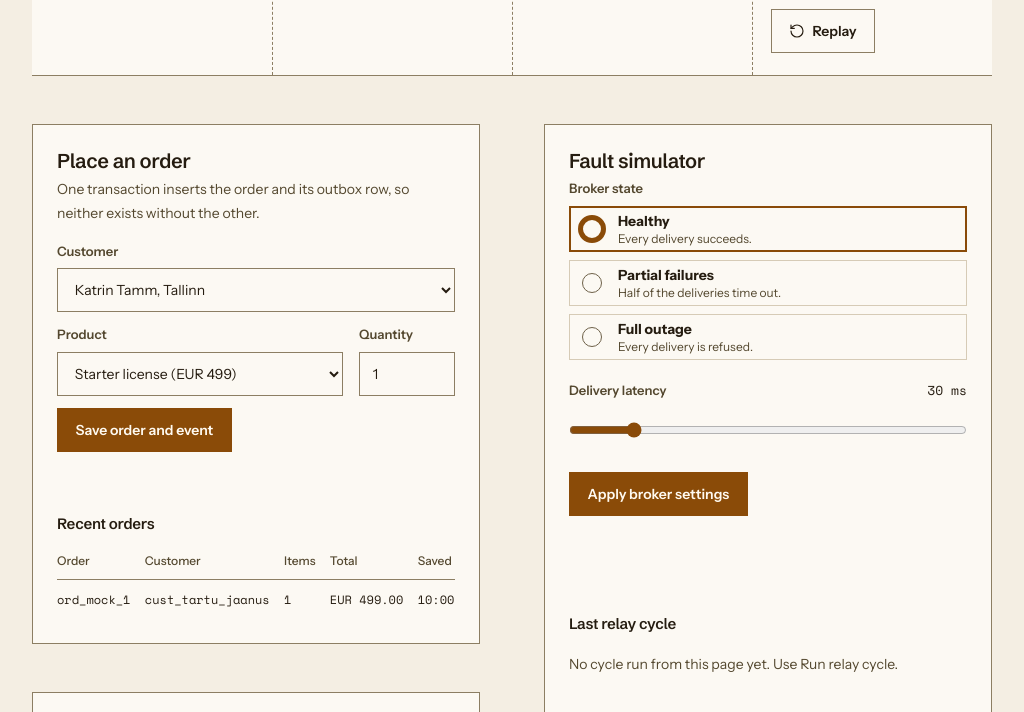
OutboxRelay operations console › saves an order with the chosen product and quantity
(page scrolled)
Select "Broker node (EUR 850)" in the dropdown labelled "Product" at (200, 374), box [57,352,343,396]
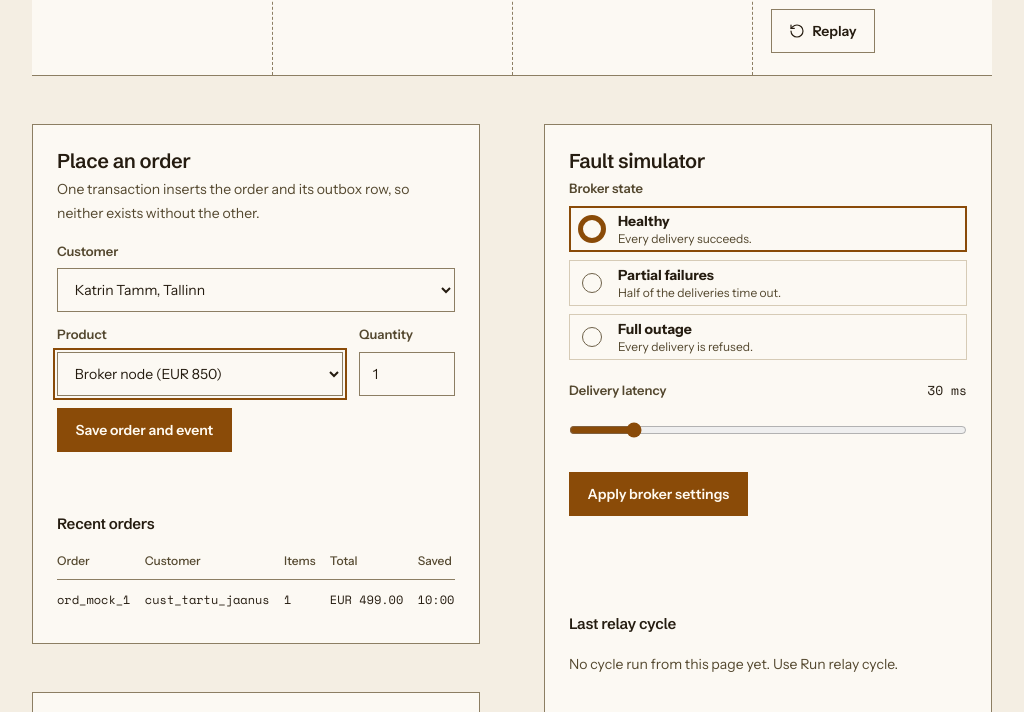
Replace the text in the number field labelled "Quantity" with "2" at (407, 374), box [359,352,455,396]
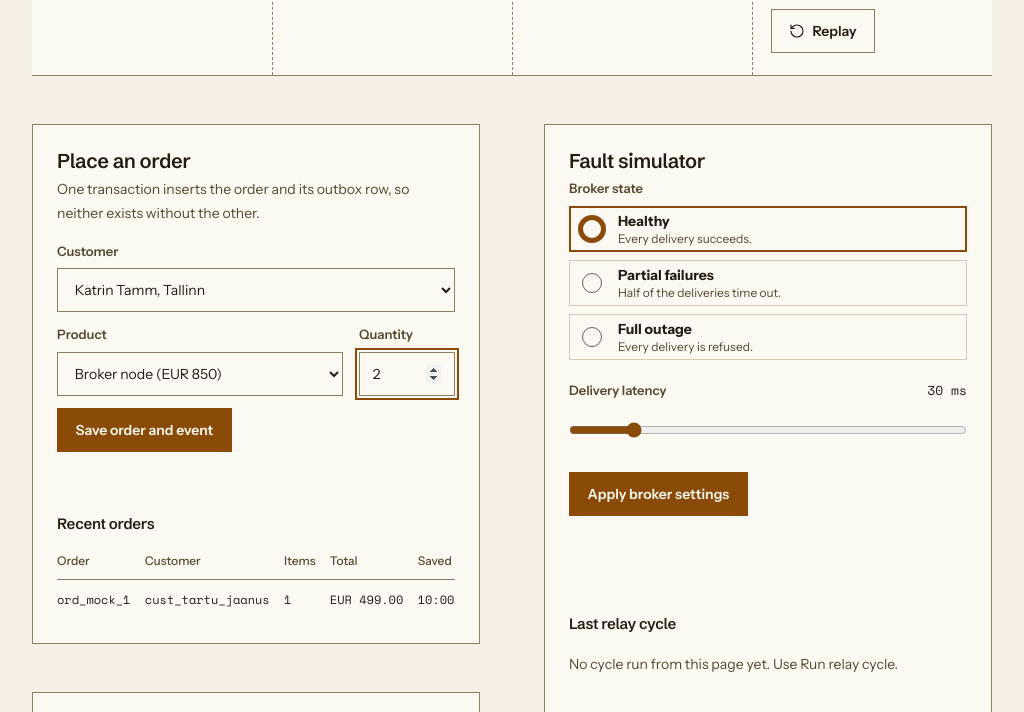
Click the button "Save order and event".
click(144, 430)  # box [57,408,232,452]
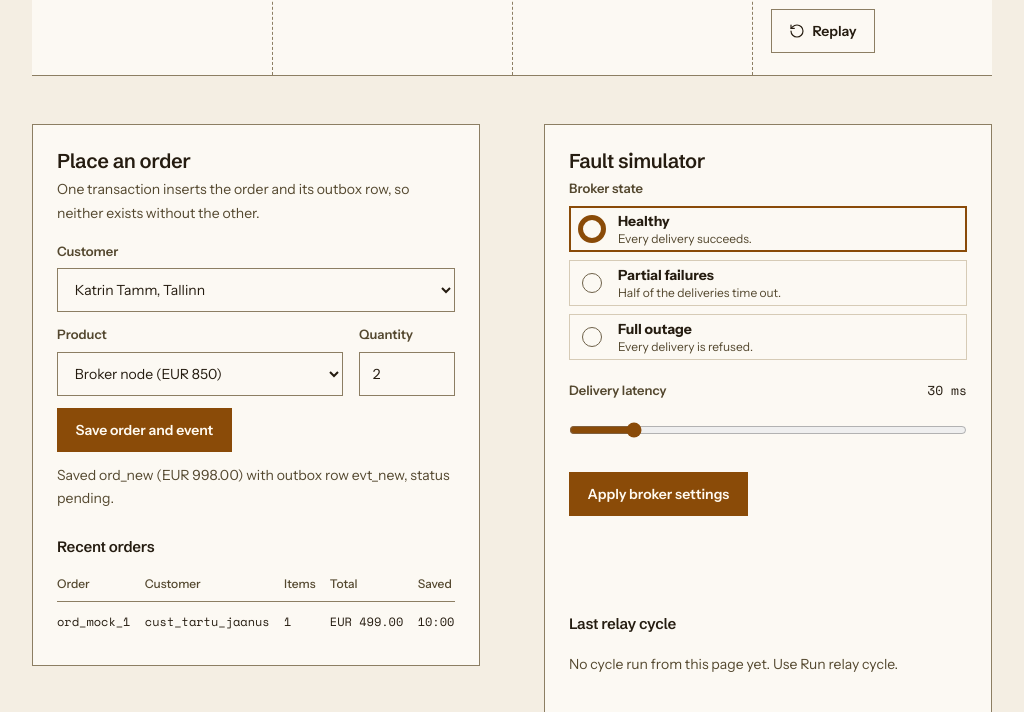
Check: the text "Saved ord_new (EUR 998.00) with outbox row evt_new" is shown, box [57,466,450,507]
